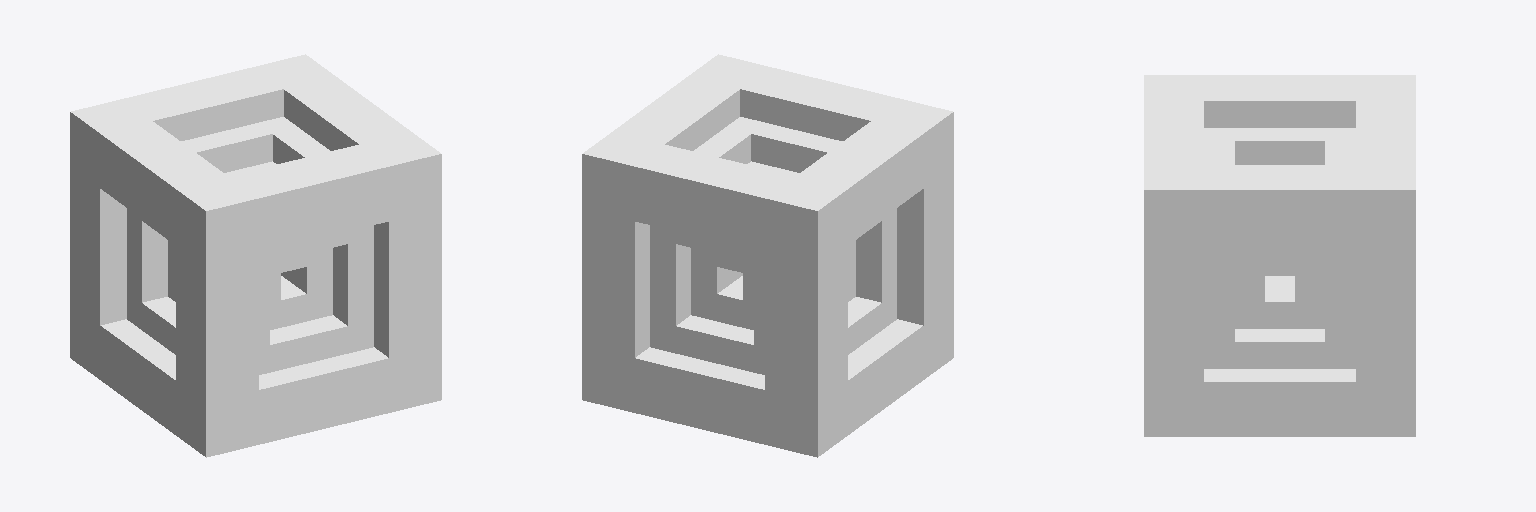
Rendered from Node_Center.obj.
The picture shows the model from 3 angles: view 1: azimuth 30°, elevation 25°; view 2: azimuth 150°, elevation 25°; view 3: azimuth 270°, elevation 25°; orthographic projection.
Visible parts, largest first — view 1: object 1; view 2: object 1; view 3: object 1.
Boxes of the visible parts, <box> form: object 1: <box>70,54,441,457</box>; object 1: <box>582,54,953,457</box>; object 1: <box>1144,75,1415,436</box>.
Size of the model in its own units: 3.6 by 3.6 by 3.6.